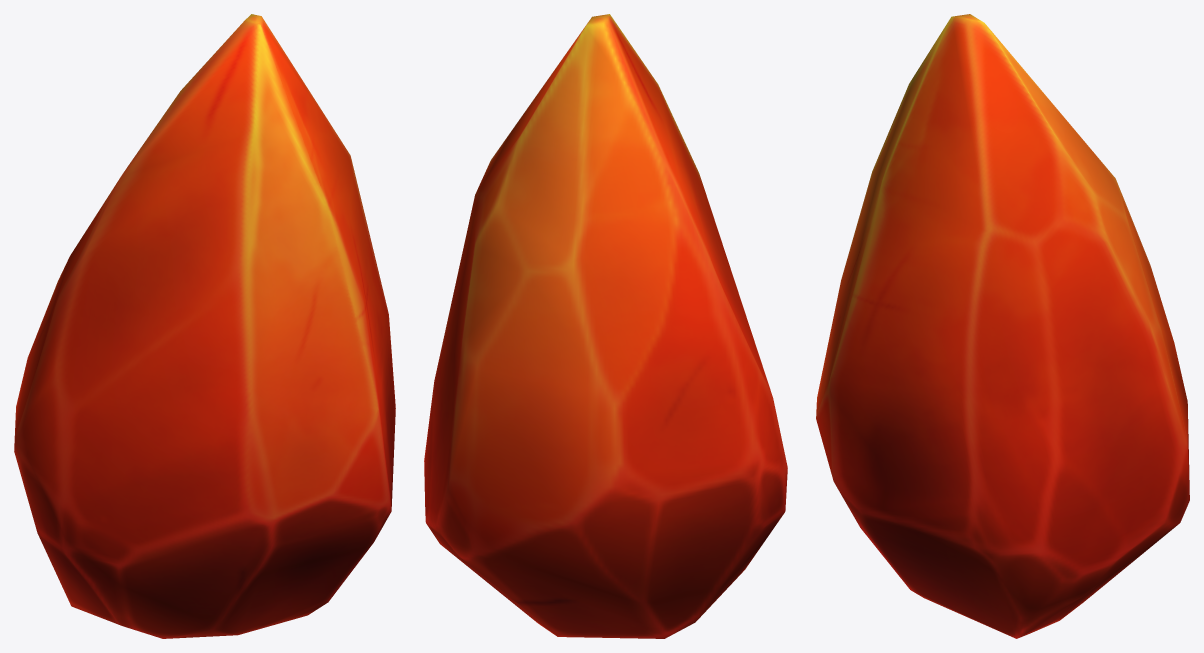
The model's file is SM_Gem_FireCrystal_001.fbx.
3 views of the same model, side by side, from view 1: azimuth 30°, elevation 25°; view 2: azimuth 150°, elevation 25°; view 3: azimuth 270°, elevation 25° (orthographic). The views are drawn at different scales.
Parts seen in each view (by area): view 1: SM_Gem_FireCrystal_001; view 2: SM_Gem_FireCrystal_001; view 3: SM_Gem_FireCrystal_001.
Part boxes in pixels (x1,y1,x2,y2): SM_Gem_FireCrystal_001: (14, 14, 395, 638); SM_Gem_FireCrystal_001: (424, 14, 787, 638); SM_Gem_FireCrystal_001: (816, 14, 1189, 638).
Size of the model in its own units: 18.64 by 30.93 by 17.6.
